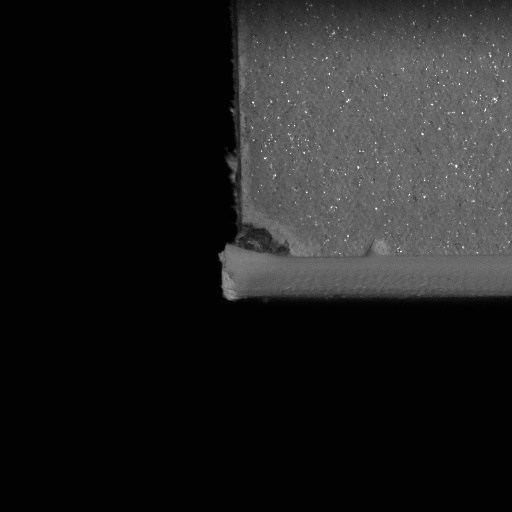bengque: (234, 222, 295, 260)
